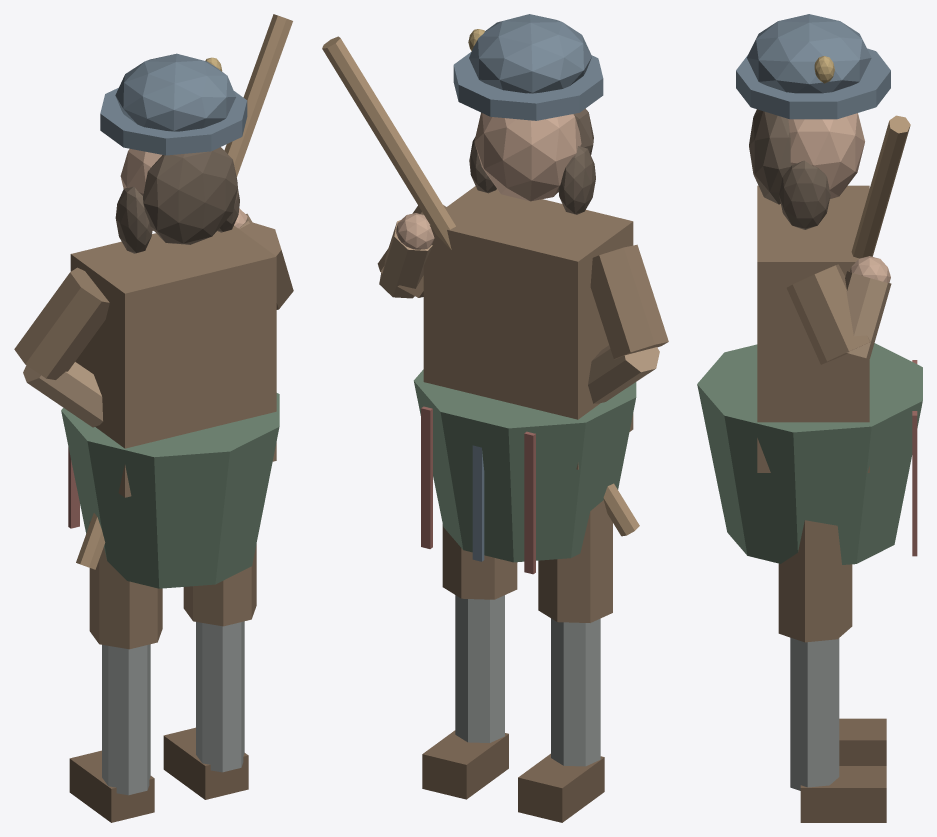
The model's file is jacobite_cannon_crew_rammer.glb.
3 renders of one model, left to right at view 1: azimuth 30°, elevation 25°; view 2: azimuth 150°, elevation 25°; view 3: azimuth 270°, elevation 25°, orthographic. The views are drawn at different scales.
Parts seen in each view (by area): view 1: brown, tartan_g, grey, blue, hair, leather, wood_lt, brown_lt, skin, tartan_r; view 2: brown, tartan_g, grey, blue, leather, skin, wood_lt, brown_lt, tartan_r, hair, tartan_b; view 3: tartan_g, brown, blue, grey, leather, hair, skin, wood_lt, brown_lt, tartan_r, ochre.
Boxes of the visible parts, x1,y1,x2,y2 form: brown: [14, 222, 293, 649]; tartan_g: [61, 393, 279, 588]; grey: [102, 621, 244, 795]; blue: [100, 53, 247, 155]; hair: [115, 147, 239, 253]; leather: [69, 727, 248, 822]; wood_lt: [76, 14, 292, 569]; brown_lt: [23, 213, 251, 427]; skin: [120, 149, 247, 230]; tartan_r: [68, 447, 79, 528]; brown: [377, 186, 668, 622]; tartan_g: [413, 369, 636, 562]; grey: [455, 595, 600, 766]; blue: [453, 14, 603, 120]; leather: [422, 730, 604, 822]; skin: [396, 112, 581, 249]; wood_lt: [322, 36, 639, 536]; brown_lt: [379, 220, 659, 403]; tartan_r: [421, 406, 535, 574]; hair: [469, 108, 595, 214]; tartan_b: [472, 445, 484, 561]; tartan_g: [697, 343, 922, 564]; brown: [757, 185, 870, 642]; blue: [736, 14, 890, 119]; grey: [790, 637, 839, 790]; leather: [800, 718, 886, 822]; hair: [749, 109, 830, 229]; skin: [788, 113, 890, 282]; wood_lt: [851, 115, 910, 258]; brown_lt: [845, 271, 891, 358]; tartan_r: [912, 360, 917, 556]; ochre: [814, 56, 834, 83].
Bounding box in the file's own units: 0.7467 × 1.74 × 0.4661.
